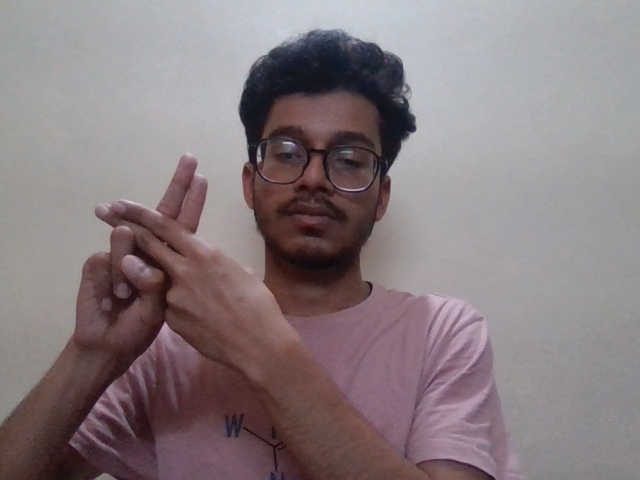disabled: (63, 144, 319, 396)
